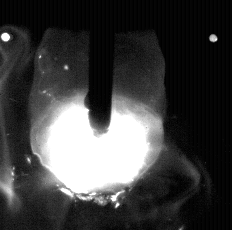arame: (90, 0, 114, 137)
poca: (30, 0, 164, 230)
